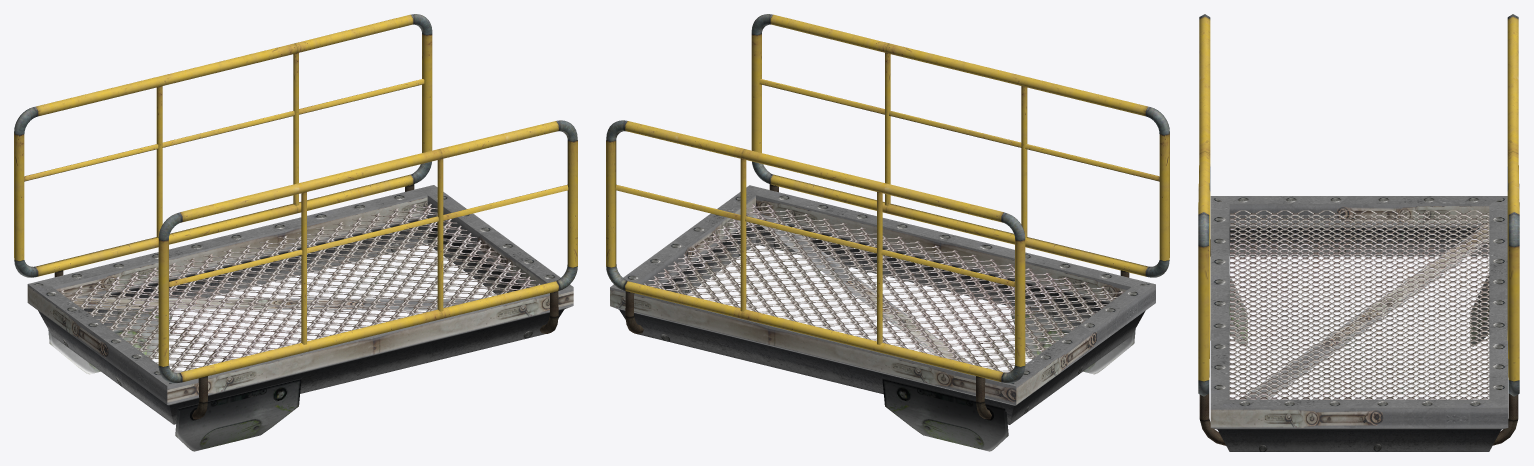
File: FLO_Walkway_Grills_2'5m.FBX
3 views of the same model, side by side, from view 1: azimuth 30°, elevation 25°; view 2: azimuth 150°, elevation 25°; view 3: azimuth 270°, elevation 25° (orthographic). The views are drawn at different scales.
Visible parts, largest first — view 1: FLO_Walkway_Grills_2'5m_Banister (×2); view 2: FLO_Walkway_Grills_2'5m_Banister (×2); view 3: FLO_Walkway_Grills_2'5m_Banister (×2).
Boxes of the visible parts, x1,y1,x2,y2 form: FLO_Walkway_Grills_2'5m_Banister (×2): [14, 14, 577, 451]; FLO_Walkway_Grills_2'5m_Banister (×2): [606, 14, 1169, 451]; FLO_Walkway_Grills_2'5m_Banister (×2): [1198, 14, 1519, 451].
Size of the model in its own units: 251 by 150 by 157.
Materials: 2 (2 with a texture image).
